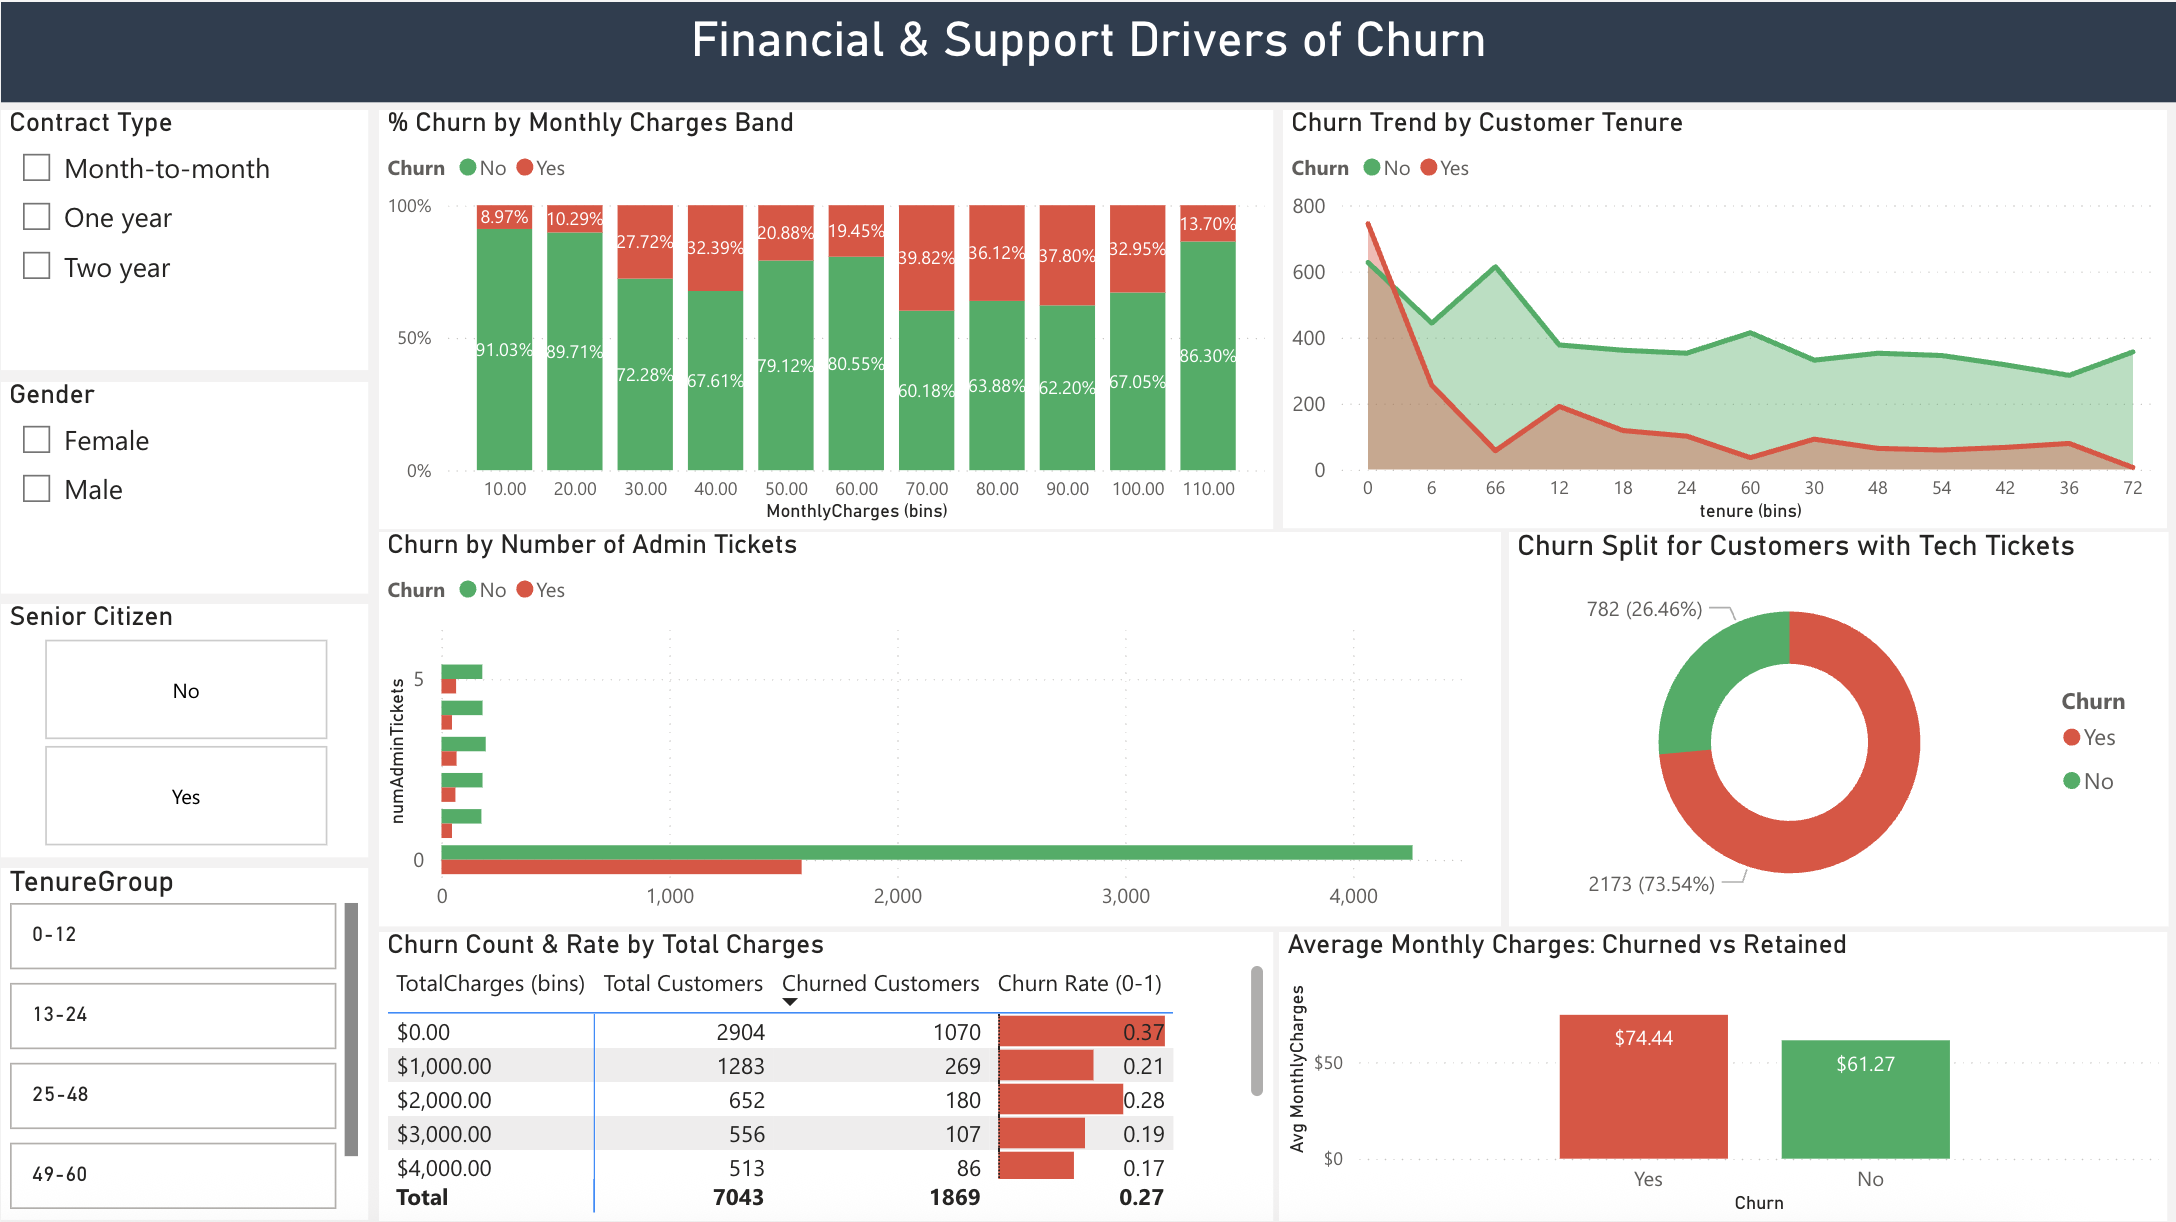

The page's visual inventory and layout, read from the dashboard file:
{"tool":"powerbi","page":{"name":"Financial & Support","canvas":[1280,720],"ordinal":4},"visuals":[{"type":"textbox","box":[0,0,1280,59.1],"z":0},{"type":"slicer","title":"Contract Type","fields":{"Values":["CustomerChurnData.Contract"]},"box":[0,63.2,215.8,153.2],"z":1000},{"type":"advancedSlicerVisual","fields":{"Values":["CustomerChurnData.TenureGroup"]},"box":[0,509.5,215.8,206.8],"z":2000},{"type":"slicer","title":"Gender","fields":{"Values":["CustomerChurnData.gender"]},"box":[0,223.2,215.8,124.7],"z":3000},{"type":"slicer","title":"Senior Citizen","fields":{"Values":["CustomerChurnData.SeniorCitizen"]},"box":[0,354.2,215.8,148.9],"z":4000},{"type":"hundredPercentStackedColumnChart","title":"% Churn by Monthly Charges Band","fields":{"Category":["CustomerChurnData.MonthlyCharges (bins)"],"Series":["CustomerChurnData.Churn"],"Y":["CountNonNull(CustomerChurnData.customerID)"]},"box":[222.2,63,526.1,246.5],"z":5000},{"type":"areaChart","title":"Churn Trend by Customer Tenure","fields":{"Series":["CustomerChurnData.Churn"],"Y":["CountNonNull(CustomerChurnData.customerID)"],"Category":["CustomerChurnData.tenure (bins)"]},"box":[754.6,63.1,520,246.2],"z":6000},{"type":"pivotTable","title":"Churn Count & Rate by Total Charges","fields":{"Rows":["CustomerChurnData.TotalCharges (bins)"],"Values":["Calculations.Total Customers","Calculations.Churned Customers","Calculations.Churn Rate (0-1)"]},"box":[222.6,546.6,525.8,170],"z":7000},{"type":"clusteredBarChart","title":"Churn by Number of Admin Tickets","fields":{"Series":["CustomerChurnData.Churn"],"Category":["CustomerChurnData.numAdminTickets"],"Y":["CountNonNull(CustomerChurnData.customerID)"]},"box":[222.7,312,660,232],"z":8000},{"type":"donutChart","title":"Churn Split for Customers with Tech Tickets","fields":{"Category":["CustomerChurnData.Churn"],"Y":["Sum(CustomerChurnData.numTechTickets)"]},"box":[886.7,312,388,232],"z":9000},{"type":"clusteredColumnChart","title":"Average Monthly Charges: Churned vs Retained","fields":{"Category":["CustomerChurnData.Churn"],"Y":["Calculations.Avg MonthlyCharges"]},"box":[752,546.7,522.7,170],"z":10000}]}

Visuals, with their boxes in screenshot pixels (x1, y1, x2, y2), scaled from the page's 1280x720 canvas onto the 2176x1222 screenshot:
textbox: {"left": 0, "top": 0, "right": 2175, "bottom": 100}
"Contract Type" slicer: {"left": 0, "top": 107, "right": 367, "bottom": 367}
advancedSlicerVisual - CustomerChurnData.TenureGroup: {"left": 0, "top": 865, "right": 367, "bottom": 1216}
"Gender" slicer: {"left": 0, "top": 379, "right": 367, "bottom": 590}
"Senior Citizen" slicer: {"left": 0, "top": 601, "right": 367, "bottom": 854}
"% Churn by Monthly Charges Band" hundredPercentStackedColumnChart: {"left": 378, "top": 107, "right": 1272, "bottom": 525}
"Churn Trend by Customer Tenure" areaChart: {"left": 1283, "top": 107, "right": 2167, "bottom": 525}
"Churn Count & Rate by Total Charges" pivotTable: {"left": 378, "top": 928, "right": 1272, "bottom": 1216}
"Churn by Number of Admin Tickets" clusteredBarChart: {"left": 379, "top": 530, "right": 1501, "bottom": 923}
"Churn Split for Customers with Tech Tickets" donutChart: {"left": 1507, "top": 530, "right": 2167, "bottom": 923}
"Average Monthly Charges: Churned vs Retained" clusteredColumnChart: {"left": 1278, "top": 928, "right": 2167, "bottom": 1216}
